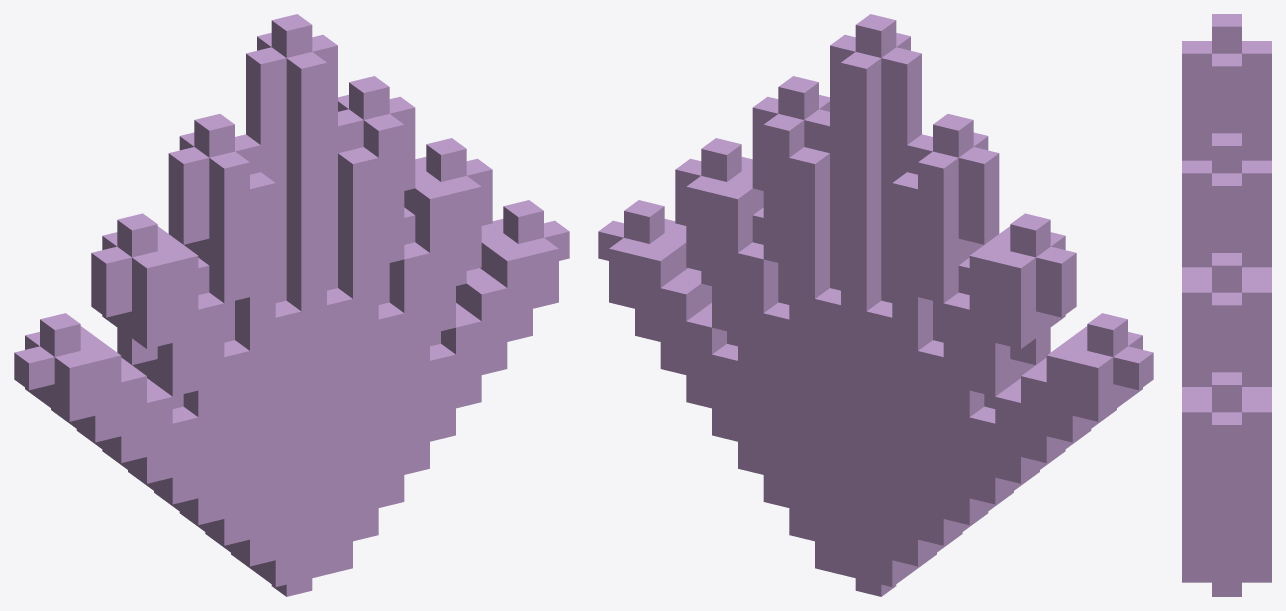
The model's file is alien-biosphere-crystal-fan-143d26ef__22736.glb.
3 renders of one model, left to right at view 1: azimuth 30°, elevation 25°; view 2: azimuth 150°, elevation 25°; view 3: azimuth 270°, elevation 25°, orthographic.
Parts seen in each view (by area): view 1: crystal-fan; view 2: crystal-fan; view 3: crystal-fan.
Part boxes in pixels (x1,y1,x2,y2): crystal-fan: [14, 14, 569, 596]; crystal-fan: [598, 14, 1153, 596]; crystal-fan: [1182, 14, 1271, 596].
Bounding box in the file's own units: 4.2 × 4.2 × 0.5999.
